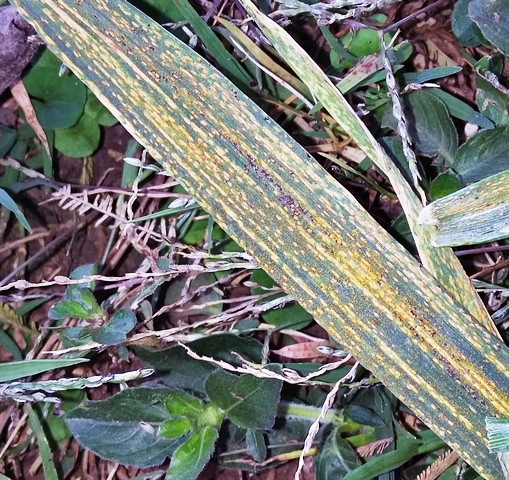Leaf Rust: (121, 54, 427, 352)
